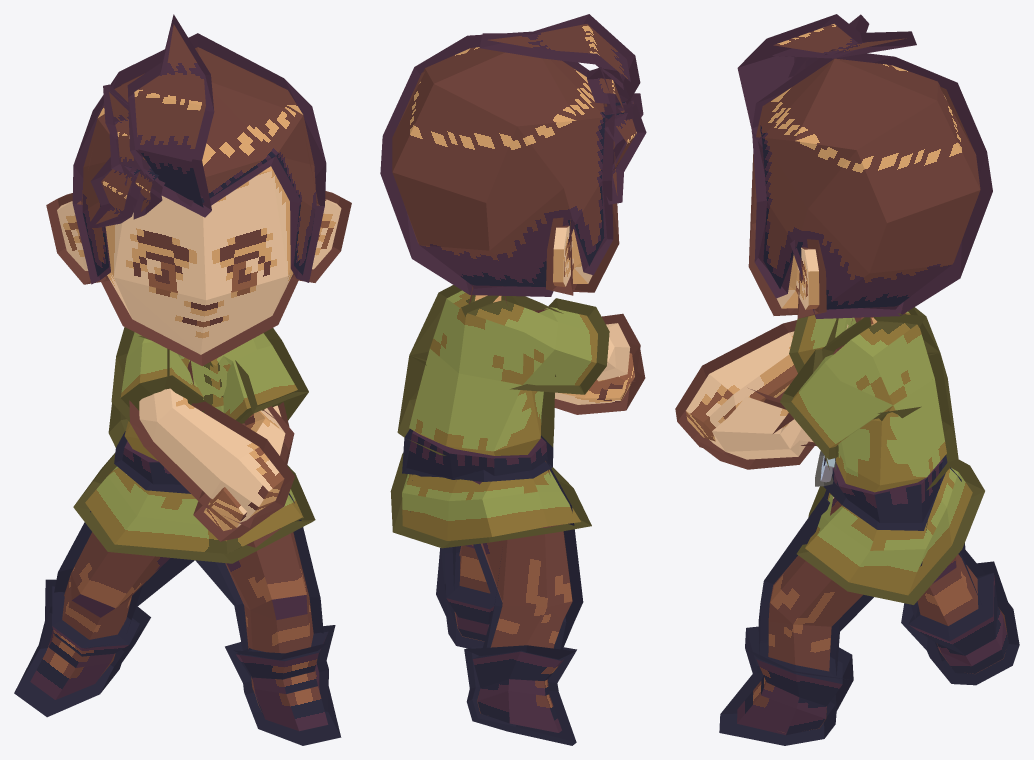
File: adventurer.glb
3 renders of one model, left to right at view 1: azimuth 30°, elevation 25°; view 2: azimuth 150°, elevation 25°; view 3: azimuth 270°, elevation 25°, orthographic. The views are drawn at different scales.
Parts seen in each view (by area): view 1: Hair2; view 2: Hair2; view 3: Hair2.
Boxes of the visible parts, x1,y1,x2,y2 form: Hair2: (14,14,351,745); Hair2: (380,14,646,745); Hair2: (675,14,1019,745).
Size of the model in its own units: 0.5575 by 1.45 by 0.6624.
Materials: 4 (4 with a texture image).
